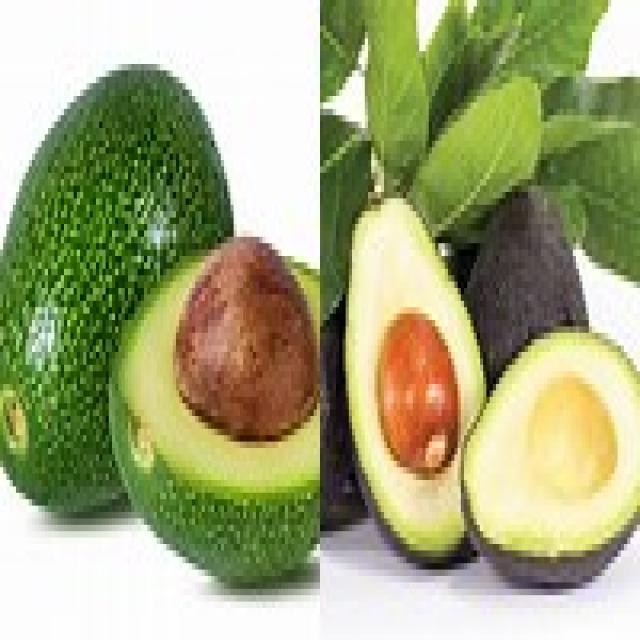Avocado: (110, 213, 321, 594), (462, 303, 640, 613), (343, 175, 477, 579), (0, 42, 240, 241)
